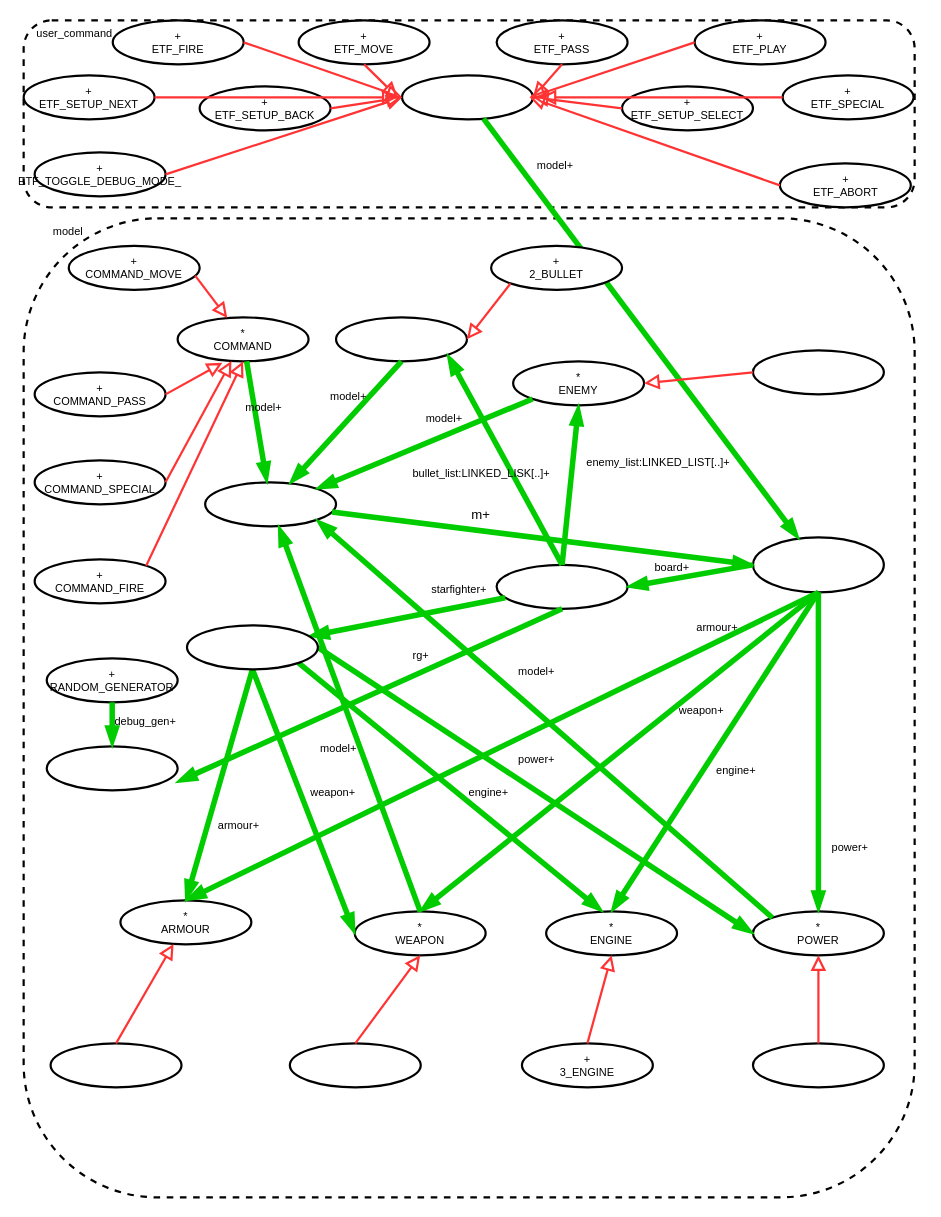
The diagram is 941 pixels wide and 1217 high, and some of its shapes have lost their labels. Each missing label, with the centre of its shape:
* BULLET: the point at 401,339
* ETF_COMMAND: the point at 467,97
+ 4_ARMOUR: the point at 115,1065
+ 5_ENEMY: the point at 817,372
+ 5_POWER: the point at 817,1065
+ 5_WEAPON: the point at 354,1065
+ BOARD: the point at 561,586
+ ETF_MODE: the point at 817,564
+ ETF_MODE_ACCESS: the point at 270,504
+ RANDOM_GENERATOR_ACCESS: the point at 111,768
+ STARFIGHTER: the point at 251,647
